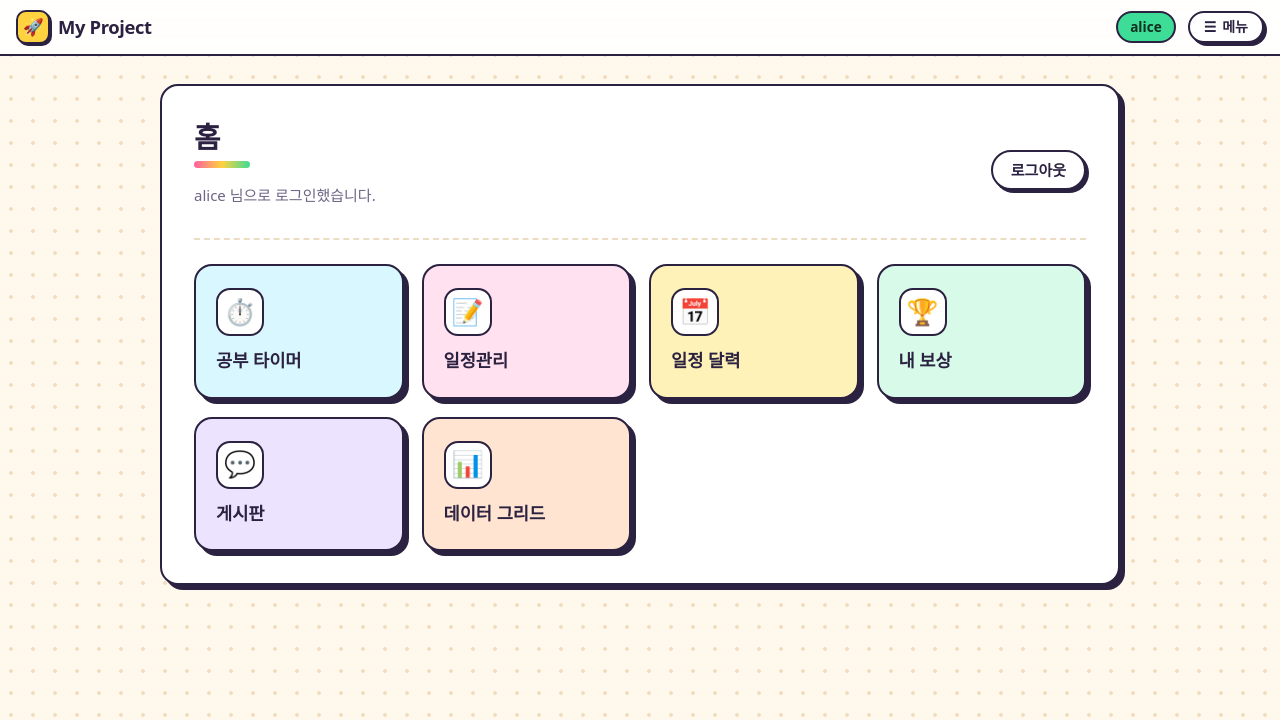
App auth state and routing › keeps the user signed in and shows an error when logout fails on the network
Expected: the text "alice 님으로 로그인했습니다." is shown, [194,183,376,207]
Click the button "로그아웃": click(1038, 170) [991,150,1086,190]
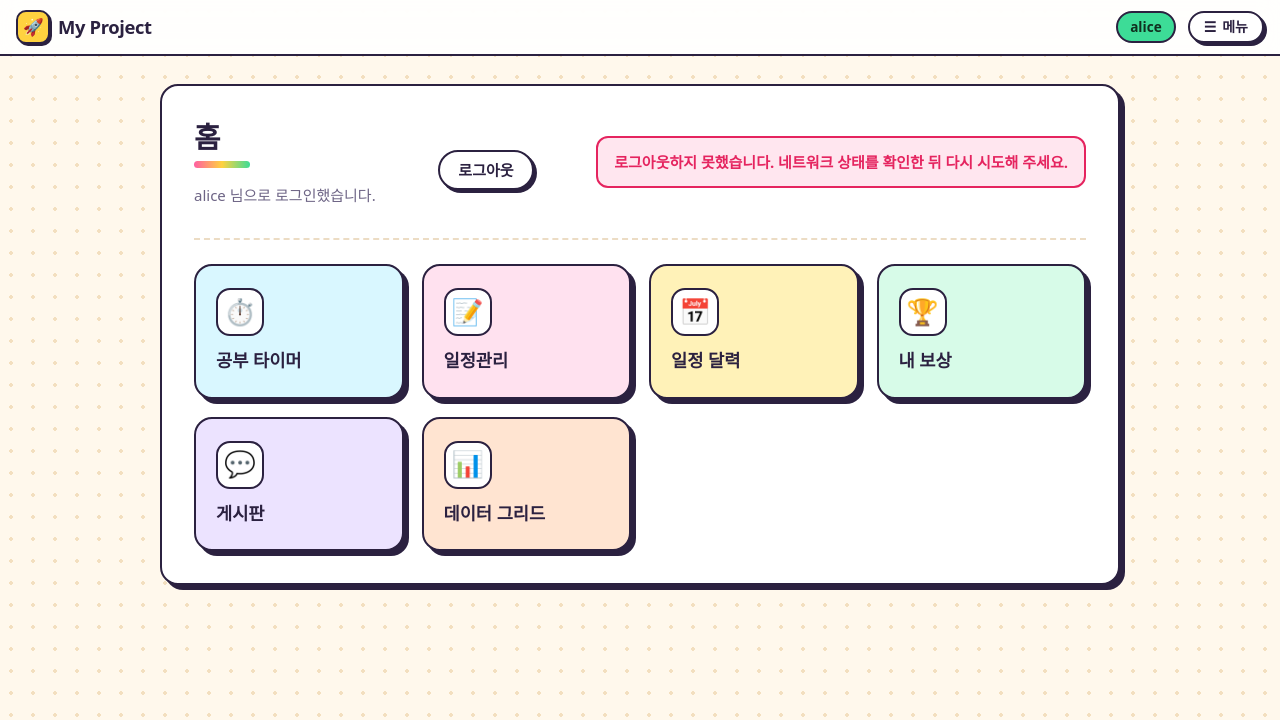
Expected: the text "alice 님으로 로그인했습니다." is shown, [194,183,376,207]
Expected: the text "로그아웃하지 못했습니다. 네트워크 상태를 확인한 뒤 다시 시도해 주세요." is shown, [596,136,1086,188]
